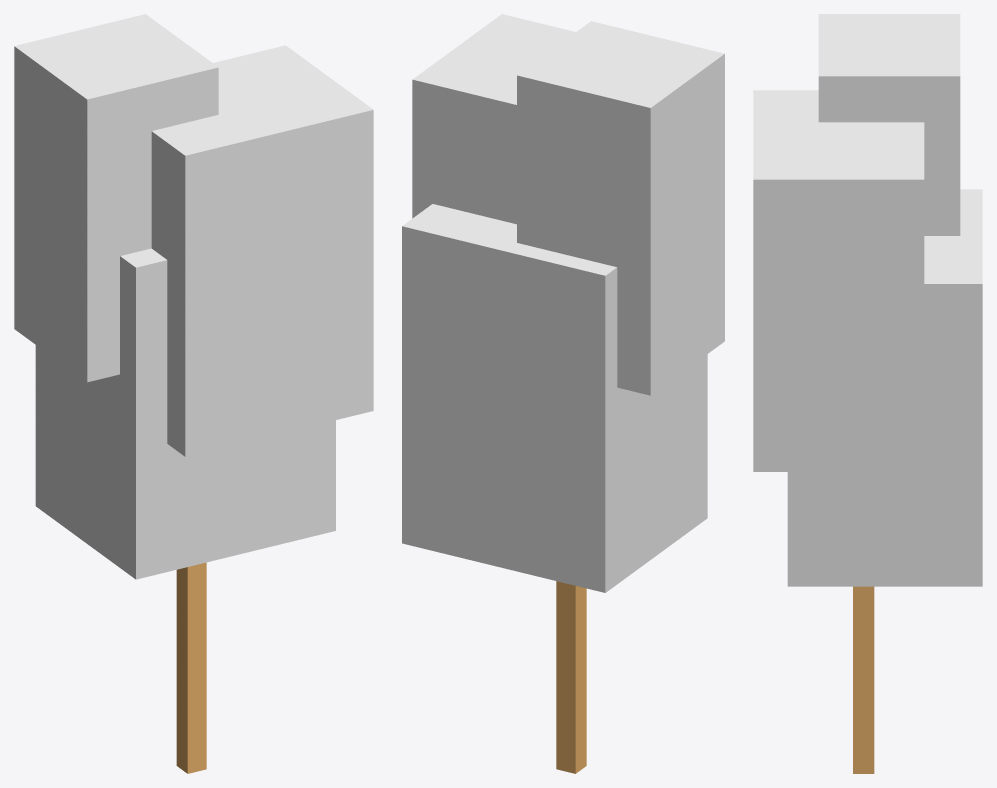
The model's file is CandylandCottonCandy_01.fbx.
3 views of the same model, side by side, from view 1: azimuth 30°, elevation 25°; view 2: azimuth 150°, elevation 25°; view 3: azimuth 270°, elevation 25° (orthographic). The views are drawn at different scales.
Parts seen in each view (by area): view 1: CandylandCottonCandy_01; view 2: CandylandCottonCandy_01; view 3: CandylandCottonCandy_01.
Part boxes in pixels (bbox=[...]): CandylandCottonCandy_01: bbox=[14, 14, 373, 773]; CandylandCottonCandy_01: bbox=[402, 14, 724, 773]; CandylandCottonCandy_01: bbox=[753, 14, 982, 773].
Bounding box in the file's own units: 0.6973 × 1.89 × 0.5646.
